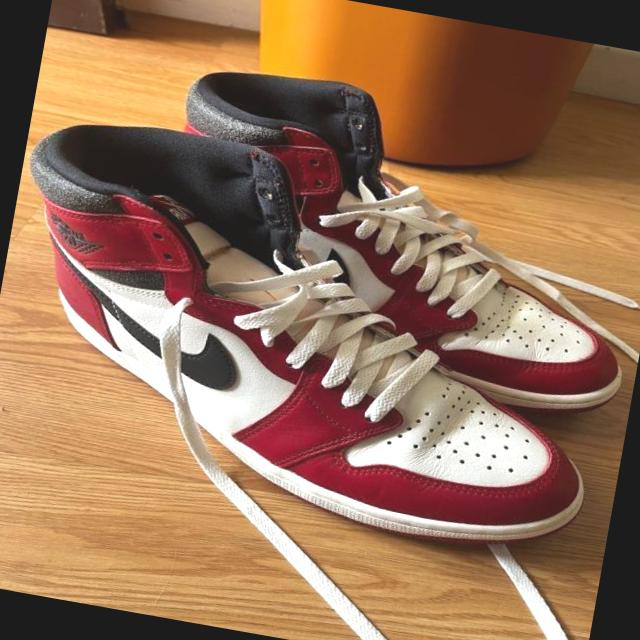nike_original_jordan: (0, 103, 635, 567), (121, 50, 640, 425)
